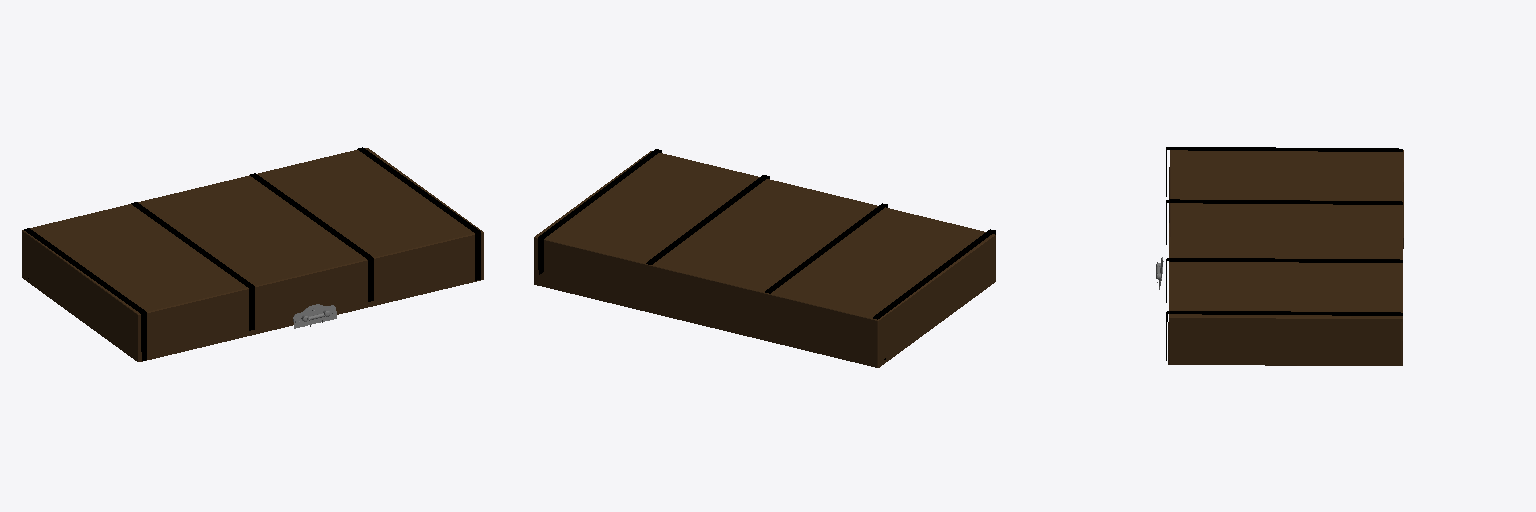
3 views of the same model, side by side, from view 1: azimuth 30°, elevation 25°; view 2: azimuth 150°, elevation 25°; view 3: azimuth 270°, elevation 25° (orthographic).
Parts seen in each view (by area): view 1: polySurface111; view 2: polySurface111; view 3: polySurface111.
Part boxes in pixels (left/top/right/bottom): polySurface111: left=22, top=147, right=483, bottom=361; polySurface111: left=534, top=149, right=995, bottom=367; polySurface111: left=1156, top=147, right=1403, bottom=365.
Bounding box in the file's own units: 2.04 × 0.2921 × 1.27.
3 materials, 1 textured.